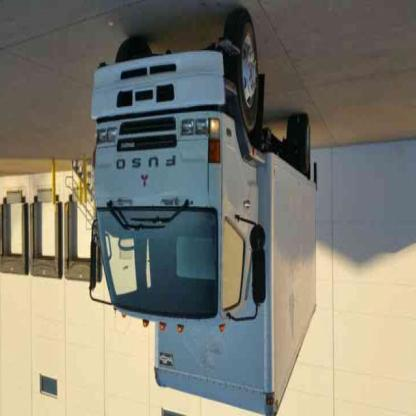truck: (92, 12, 318, 416)
